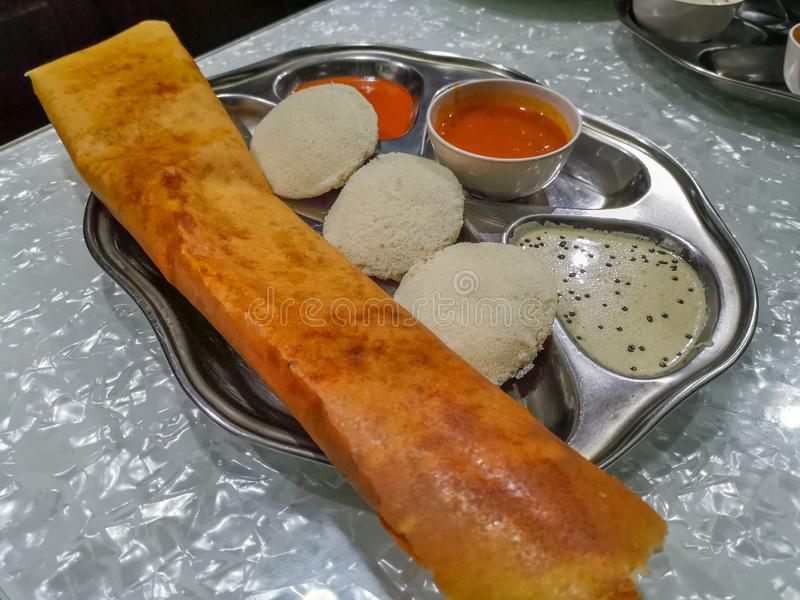dosa: (22, 5, 702, 600)
